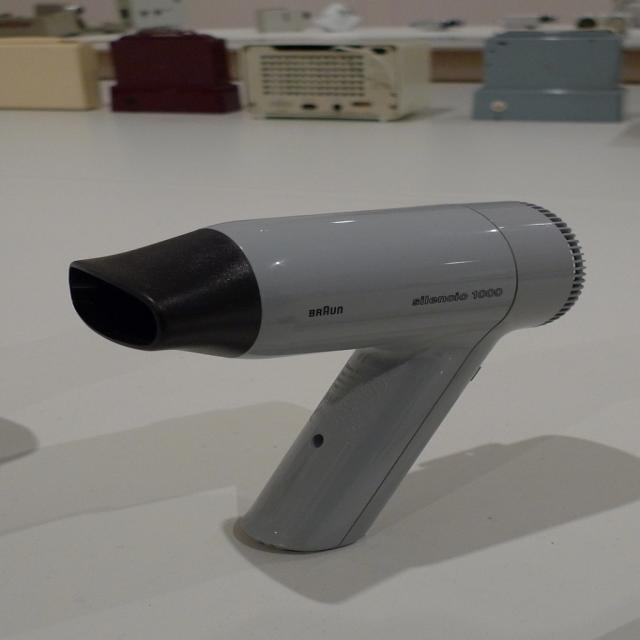dryer: (47, 172, 602, 566)
